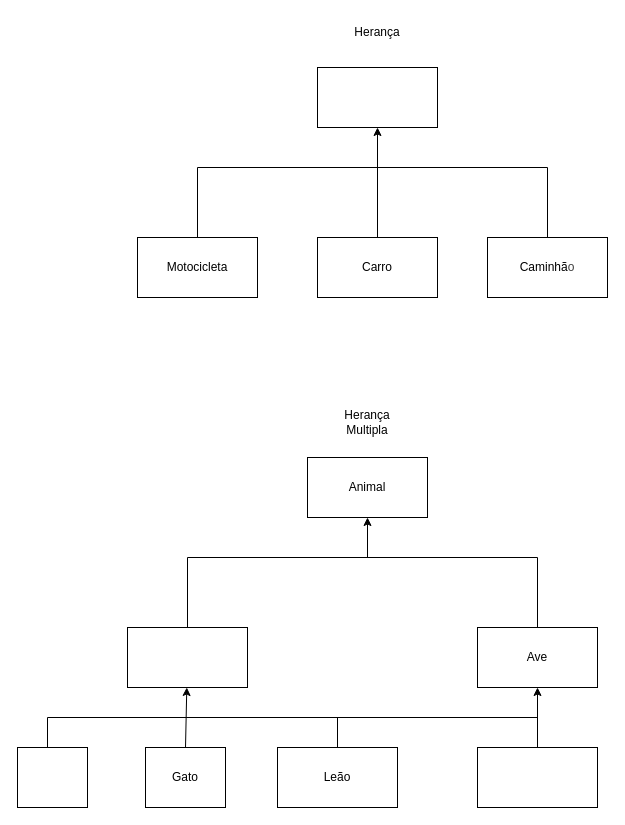
Some shapes in this 625 by 825 pixel diagram are drawn without their labels. Each missing label, with the box of its shape:
Cachorro: (16, 746, 88, 808)
Mamífero: (126, 626, 248, 688)
Ornintorrico: (476, 746, 598, 808)
Veículo: (316, 66, 438, 128)
